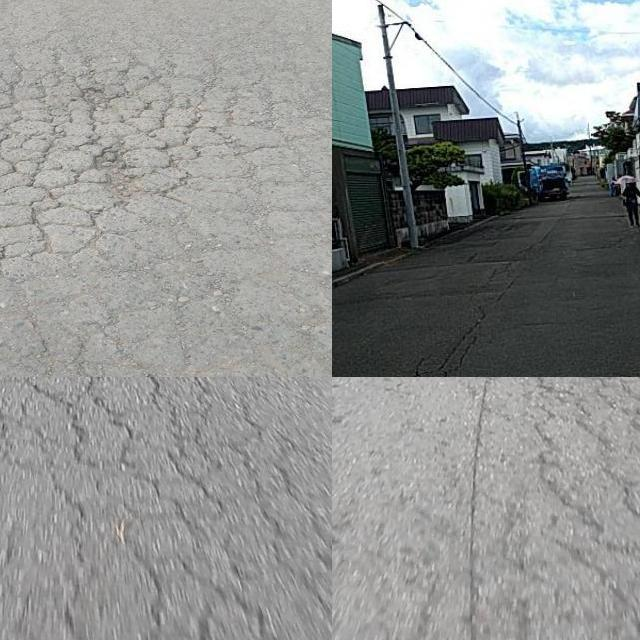Retak Buaya: (32, 377, 332, 640), (0, 57, 289, 274), (529, 377, 640, 640)
